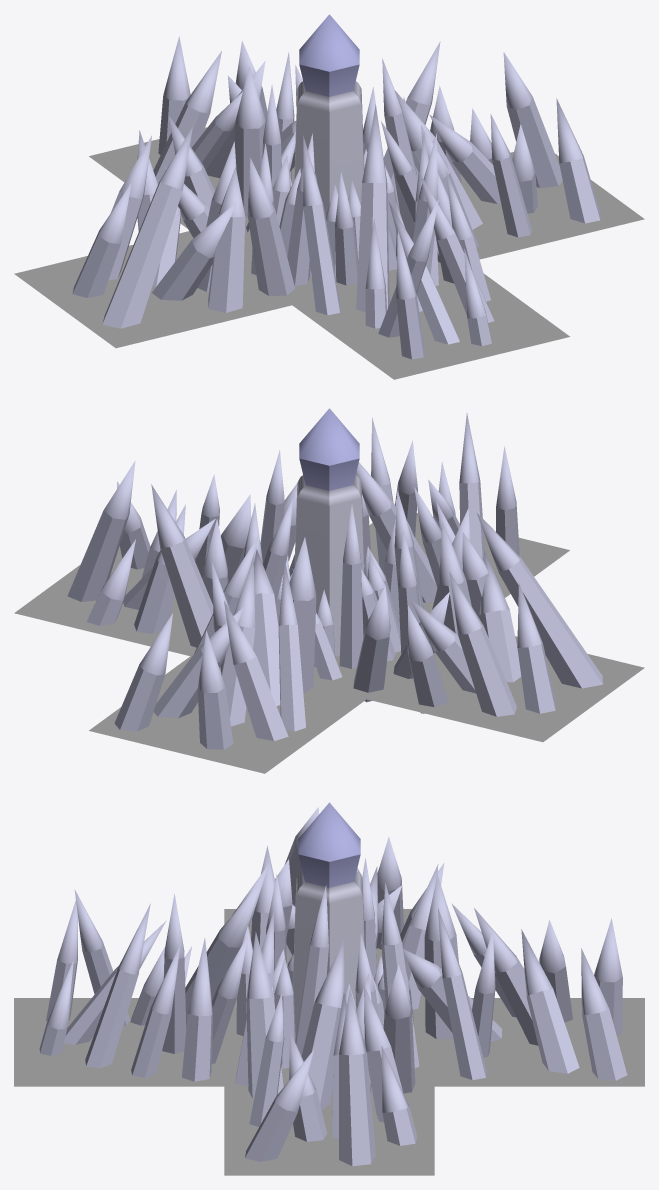
File: IceTower.fbx
3 views of the same model, one above another, from view 1: azimuth 30°, elevation 25°; view 2: azimuth 150°, elevation 25°; view 3: azimuth 270°, elevation 25° (orthographic). The views are drawn at different scales.
Parts seen in each view (by area): view 1: IceTower, pPlane4, pPlane3, pPlane2, pPlane5, pPlane1; view 2: IceTower, pPlane5, pPlane3, pPlane2, pPlane4, pPlane1; view 3: IceTower, pPlane2, pPlane5, pPlane4, pPlane1.
Part boxes in pixels (x1,y1,x2,y2): IceTower: (72, 14, 600, 359); pPlane4: (292, 269, 569, 379); pPlane3: (14, 231, 291, 348); pPlane2: (398, 152, 644, 259); pPlane5: (89, 127, 294, 228); pPlane1: (244, 212, 441, 305); IceTower: (67, 408, 602, 749); pPlane5: (89, 656, 366, 773); pPlane3: (367, 636, 644, 742); pPlane2: (14, 546, 196, 656); pPlane4: (369, 513, 569, 612); pPlane1: (191, 620, 401, 699); IceTower: (39, 802, 627, 1166); pPlane2: (224, 1086, 434, 1175); pPlane5: (434, 998, 644, 1086); pPlane4: (14, 998, 224, 1086); pPlane1: (224, 998, 434, 1086).
Bounding box in the file's own units: 42 × 19.43 × 42.
